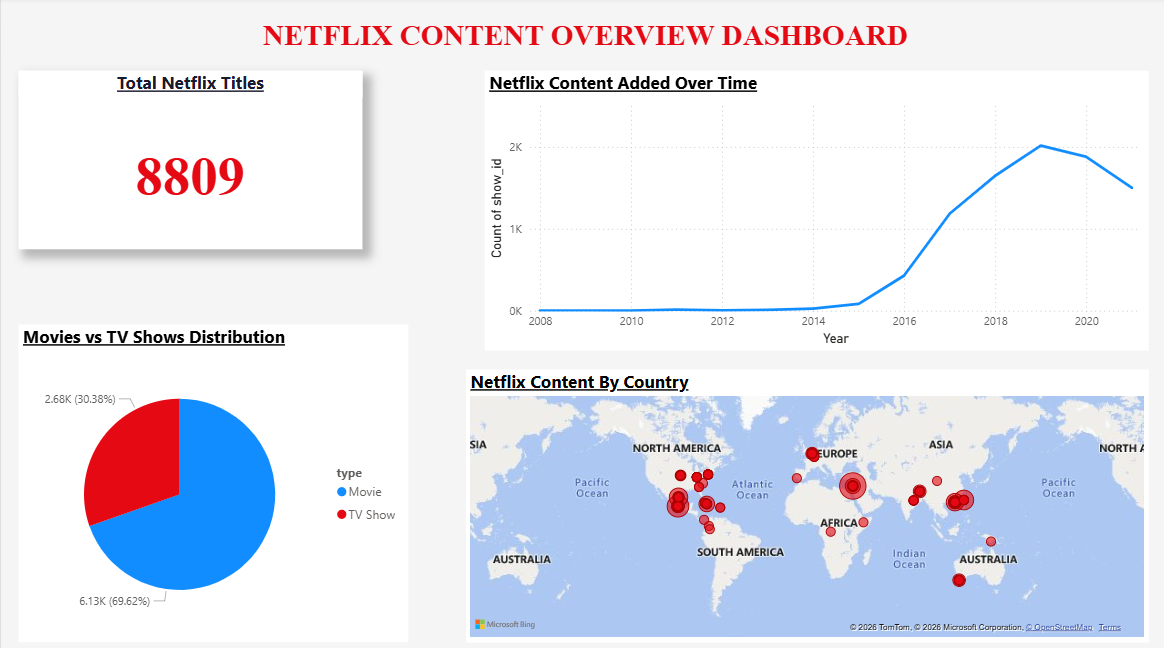

The page's visual inventory and layout, read from the dashboard file:
{"tool":"powerbi","page":{"name":"Page 1","canvas":[1280,720],"ordinal":0},"visuals":[{"type":"card","title":"Total Netflix Titles","fields":{"Values":["CountNonNull(netflix_titles.show_id)"]},"box":[19.2,81,377.4,196.2],"z":0},{"type":"pieChart","title":"Movies vs TV Shows Distribution","fields":{"Category":["netflix_titles.type"],"Y":["CountNonNull(netflix_titles.show_id)"]},"box":[19.2,359.5,428.1,348.5],"z":1000},{"type":"map","title":"Netflix Content By Country","fields":{"Category":["netflix_titles.country"],"Size":["CountNonNull(netflix_titles.show_id)"]},"box":[510.5,408.9,749.2,299.1],"z":2000},{"type":"lineChart","title":"Netflix Content Added Over Time","fields":{"Category":["netflix_titles.date_added.Variation.Date Hierarchy.Year","netflix_titles.date_added.Variation.Date Hierarchy.Quarter","netflix_titles.date_added.Variation.Date Hierarchy.Month","netflix_titles.date_added.Variation.Date Hierarchy.Day"],"Y":["CountNonNull(netflix_titles.show_id)"]},"box":[531,81,728.6,307.4],"z":3000},{"type":"textbox","box":[2.7,17.8,1277.5,48],"z":5000}]}

Visuals, with their boxes in screenshot pixels (x1, y1, x2, y2), scaled from the page's 1280x720 canvas onto the 1164x648 screenshot:
"Total Netflix Titles" card: [17,73,361,249]
"Movies vs TV Shows Distribution" pieChart: [17,324,407,637]
"Netflix Content By Country" map: [464,368,1146,637]
"Netflix Content Added Over Time" lineChart: [483,73,1145,350]
textbox: [2,16,1163,59]
